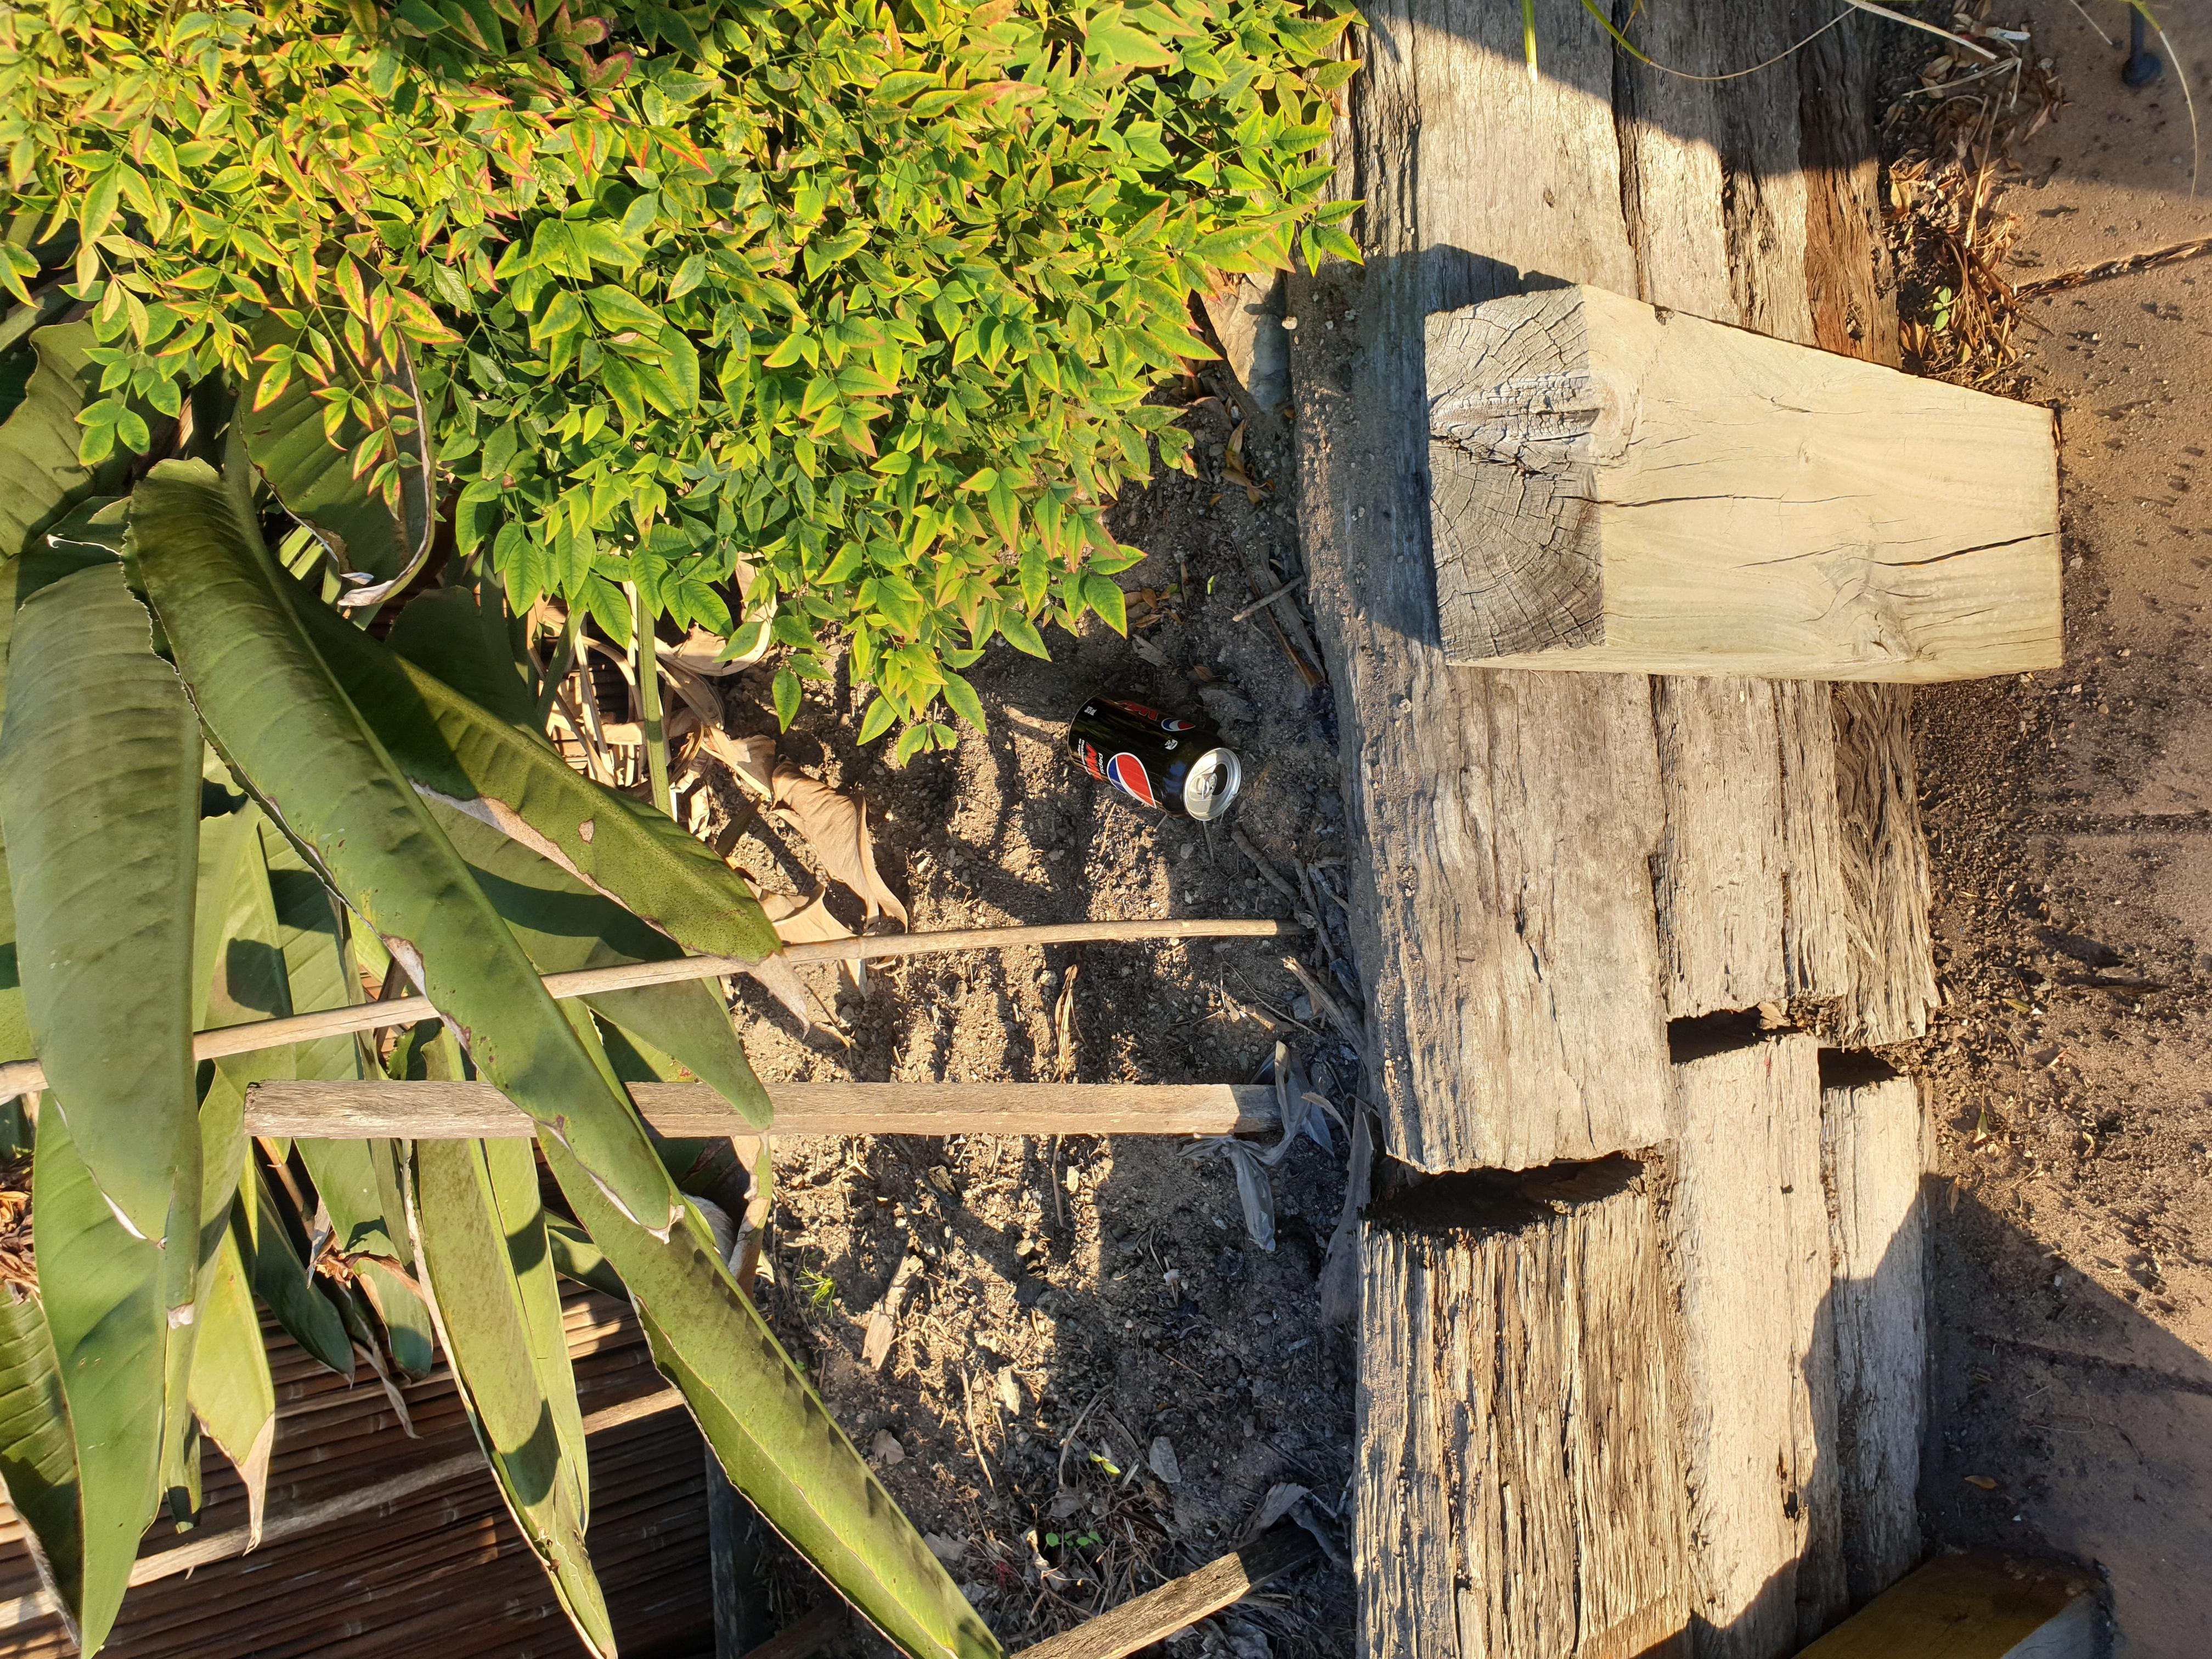Plastic Bottle: (1066, 695, 1240, 819)
